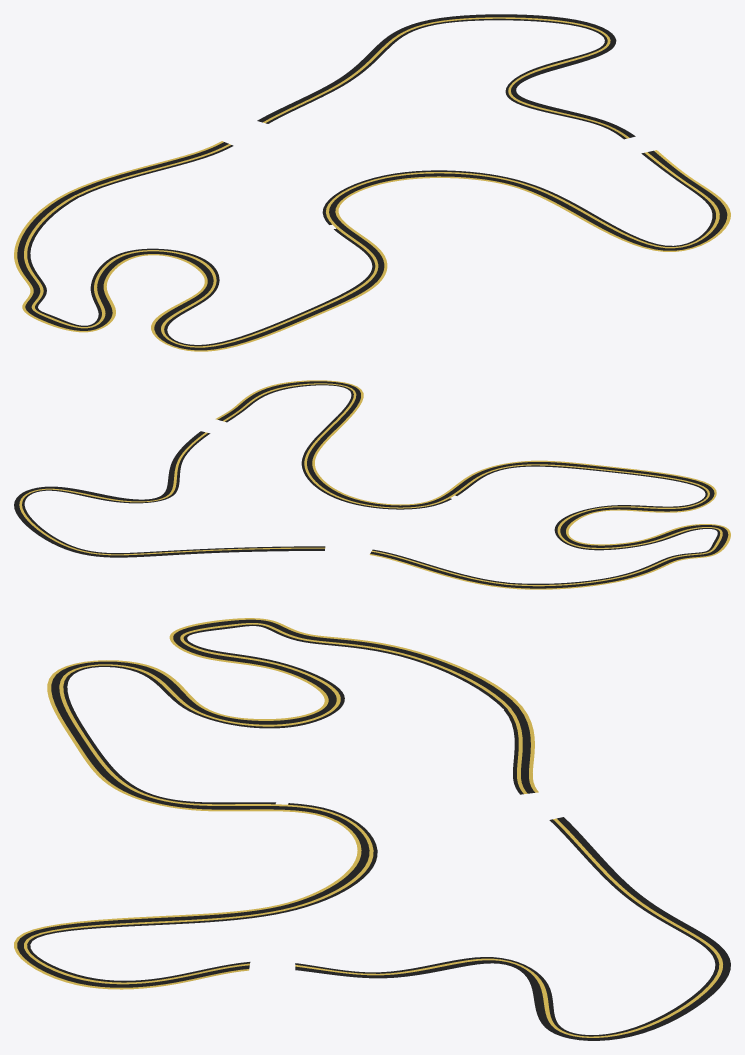
File: GroundCheck.fbx
3 views of the same model, one above another, from view 1: azimuth 30°, elevation 25°; view 2: azimuth 150°, elevation 25°; view 3: azimuth 270°, elevation 25° (orthographic). The views are drawn at different scales.
Parts seen in each view (by area): view 1: loftedSurface2; view 2: loftedSurface2; view 3: loftedSurface2.
Part boxes in pixels (x1=…): loftedSurface2: x1=14, y1=14, x2=730, y2=351; loftedSurface2: x1=14, y1=380, x2=730, y2=589; loftedSurface2: x1=14, y1=618, x2=730, y2=1040.
Size of the model in its own units: 41.48 by 0.6196 by 29.73.
